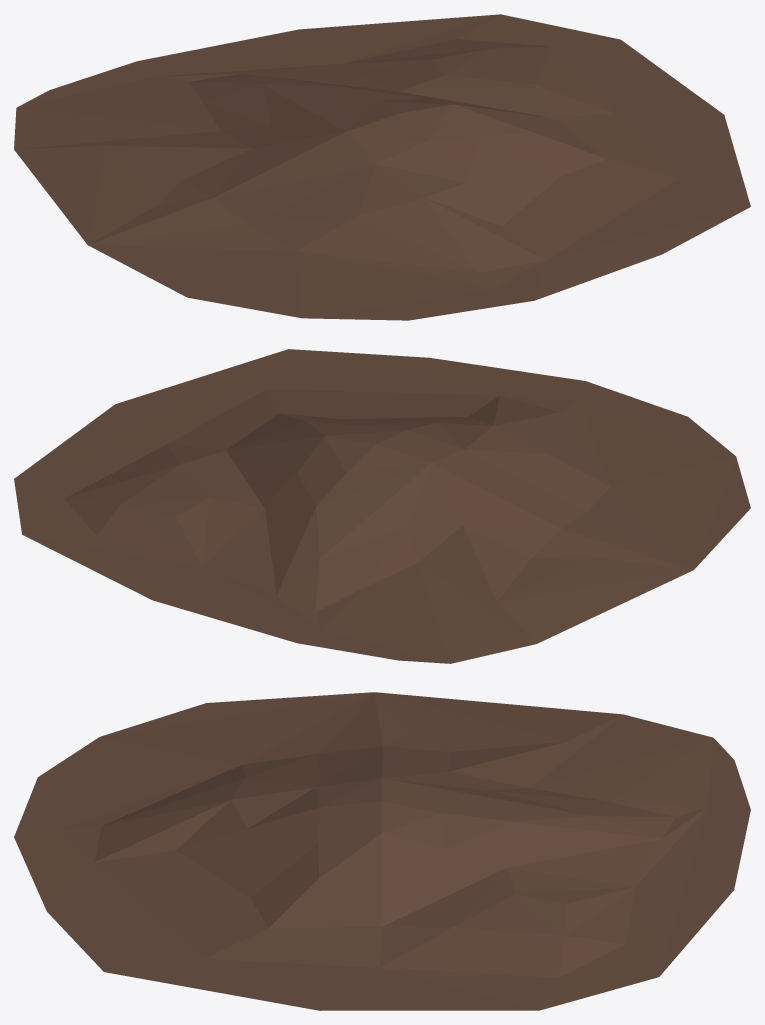
Rendered from synty-terrain-ground-mound-small-02.gltf.
The picture shows the model from 3 angles, top to bottom: view 1: azimuth 30°, elevation 25°; view 2: azimuth 150°, elevation 25°; view 3: azimuth 270°, elevation 25°; orthographic projection. The views are drawn at different scales.
Visible parts, largest first — view 1: SM_Terrain_Ground_Mound_Small_02; view 2: SM_Terrain_Ground_Mound_Small_02; view 3: SM_Terrain_Ground_Mound_Small_02.
Boxes of the visible parts, x1,y1,x2,y2 form: SM_Terrain_Ground_Mound_Small_02: (14, 14, 750, 320); SM_Terrain_Ground_Mound_Small_02: (14, 349, 750, 663); SM_Terrain_Ground_Mound_Small_02: (14, 692, 750, 1010).
Size of the model in its own units: 5.09 by 0.4184 by 4.98.
Materials: 1 (1 with a texture image).
